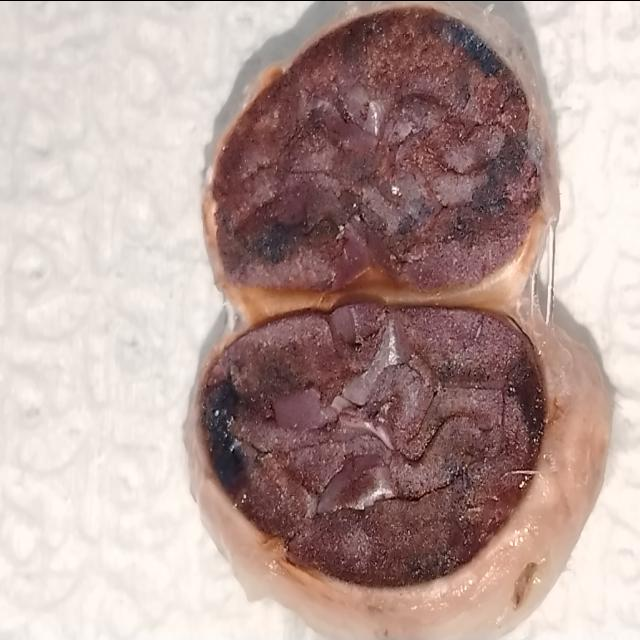Forastero: (199, 303, 550, 578), (211, 8, 534, 285)
